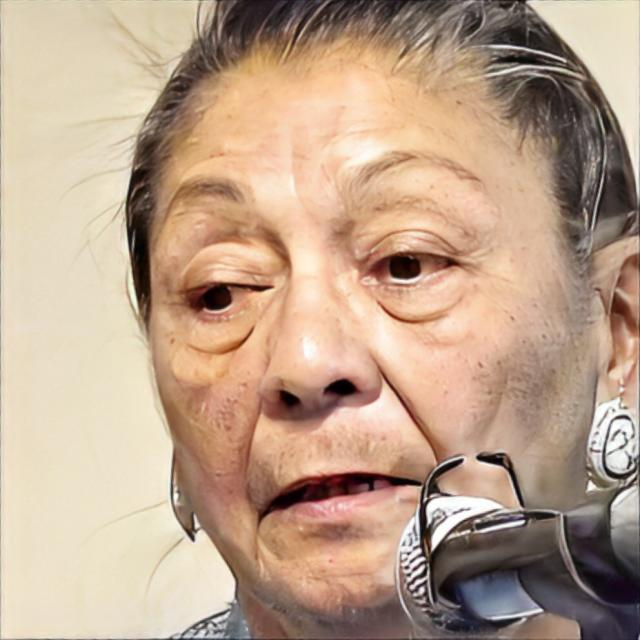surprise: (149, 42, 598, 628)
